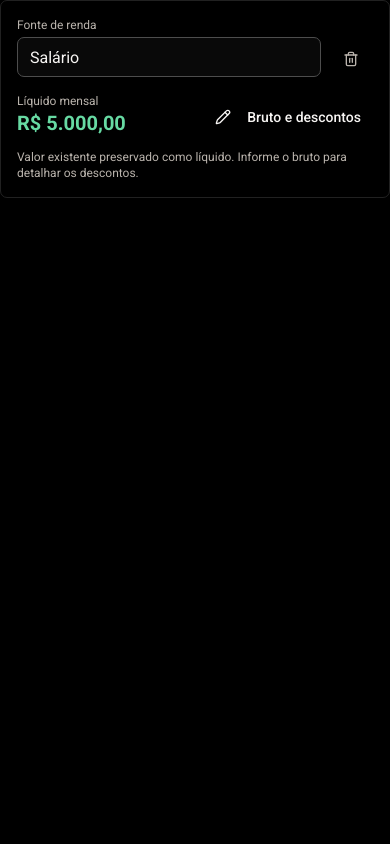
it: só altera o líquido após salvar a composição e permite cancelar
Later steps or results of the test are not shown.
Click the button "Bruto e descontos" at [288, 117], box [203, 97, 373, 137]
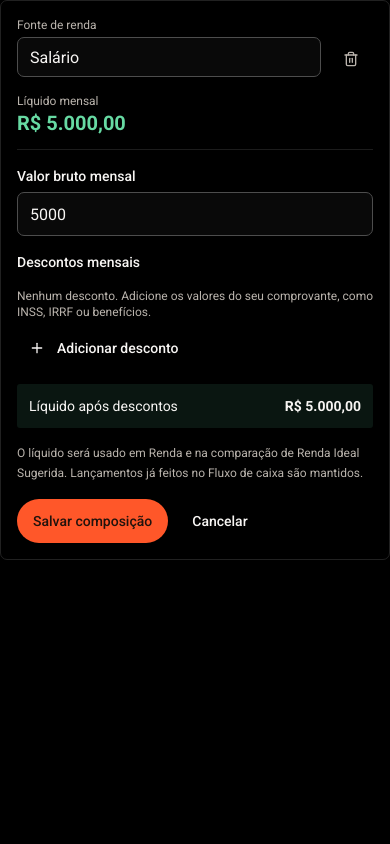
Replace the text in the number field labelled "Valor bruto mensal" with "6000" at [195, 214], box [17, 192, 373, 236]
Click the button "Adicionar desconto" at [104, 348], box [17, 328, 190, 368]
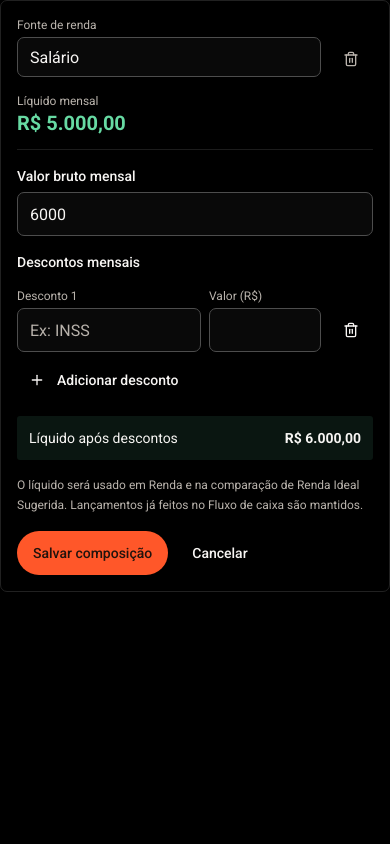
Type "INSS" into the field labelled "Desconto 1" at [109, 330], box [17, 308, 201, 352]
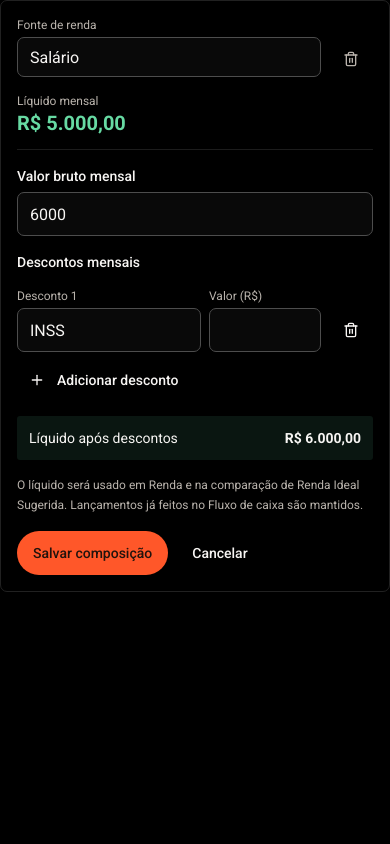
Type "600" into the number field named "Valor do desconto 1" at [265, 330], box [209, 308, 321, 352]
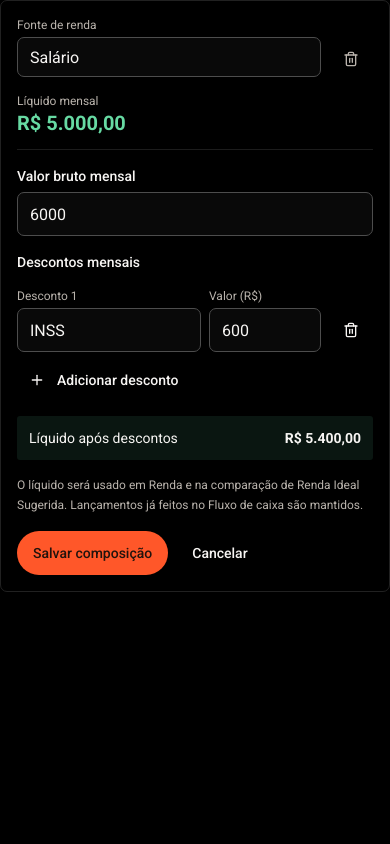
Click the button "Cancelar" at [220, 553], box [176, 531, 264, 575]
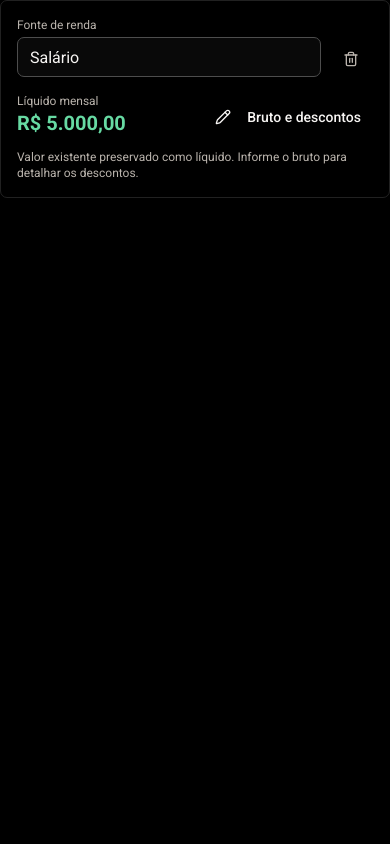
Click the button "Bruto e descontos" at [288, 117], box [203, 97, 373, 137]
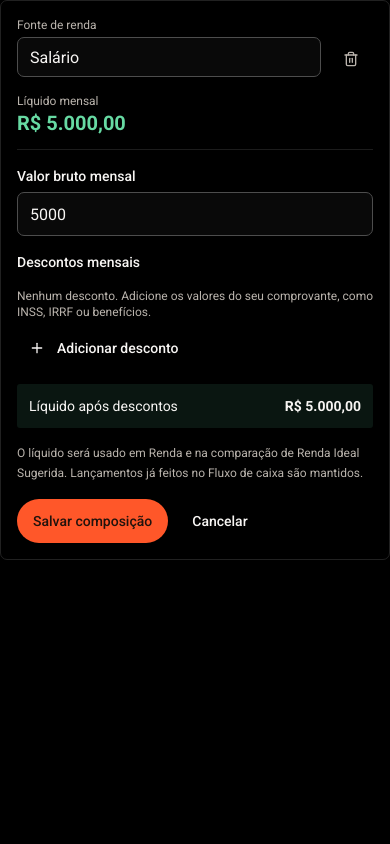
Now the number field labelled "Valor bruto mensal" holds "5000", box [17, 192, 373, 236]
